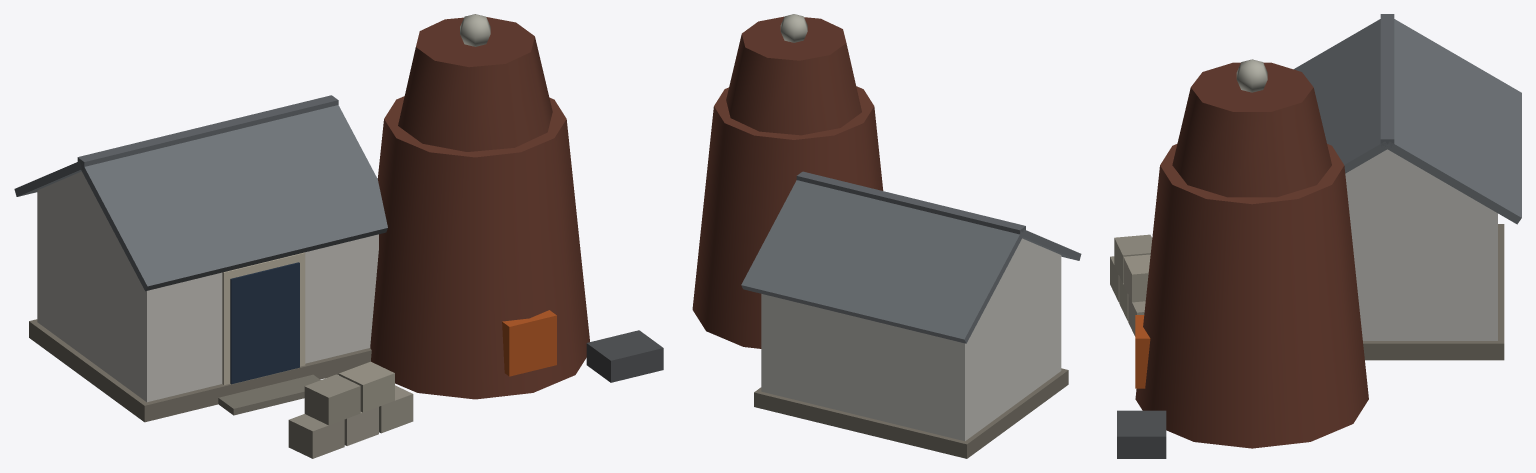
Rendered from procedural_powdermill@6.glb.
3 views of the same model, side by side, from view 1: azimuth 30°, elevation 25°; view 2: azimuth 150°, elevation 25°; view 3: azimuth 270°, elevation 25° (orthographic). The views are drawn at different scales.
Parts seen in each view (by area): view 1: part_0, part_4; view 2: part_0, part_4; view 3: part_0, part_4.
Boxes of the visible parts, x1,y1,x2,y2 form: part_0: [14, 17, 663, 458]; part_4: [460, 14, 490, 46]; part_0: [692, 16, 1081, 458]; part_4: [780, 14, 807, 42]; part_0: [1110, 14, 1521, 458]; part_4: [1236, 59, 1267, 92].
Bounding box in the file's own units: 8.51 × 6.09 × 6.7.
